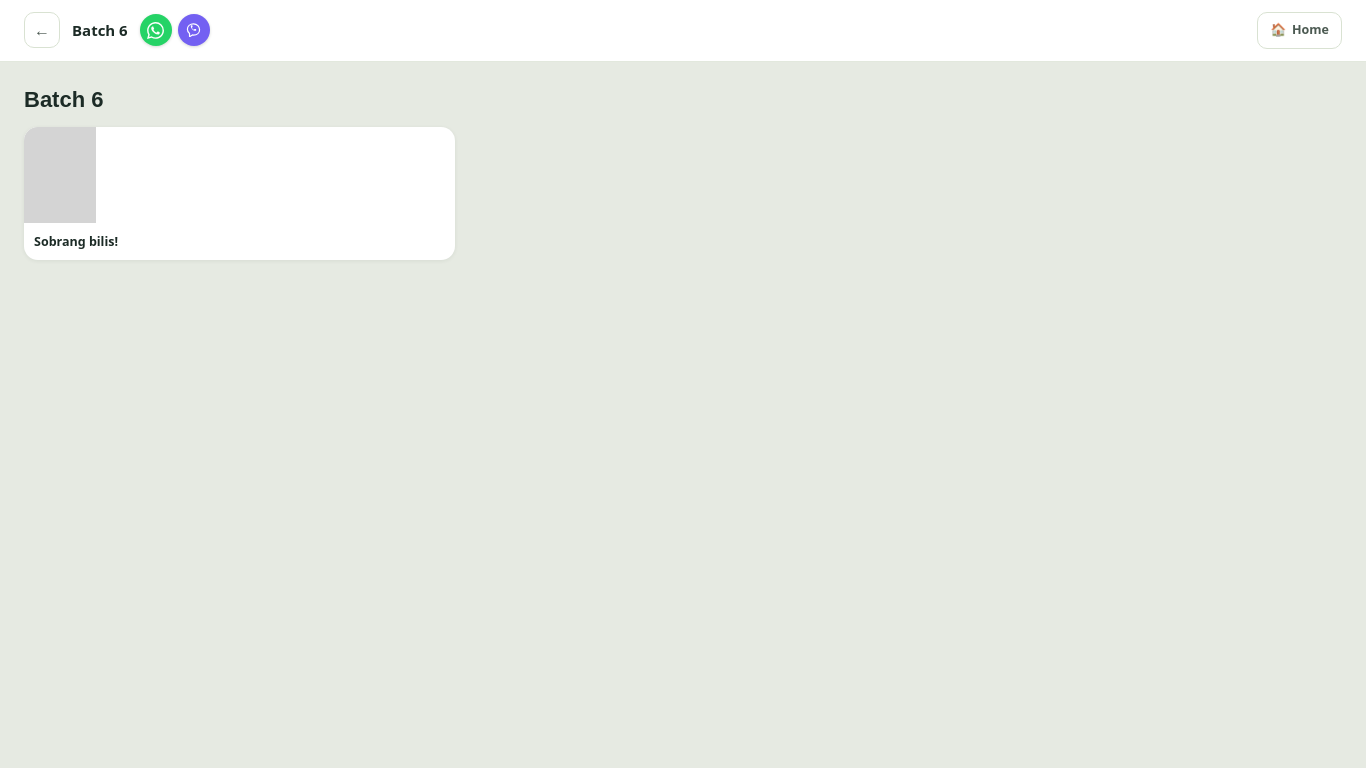
Test case: Feedback folder page › opens a screenshot full-size when tapped — a chat shot is unreadable as a tile
Click the button "Sobrang bilis!": [60, 175] box [24, 127, 455, 260]
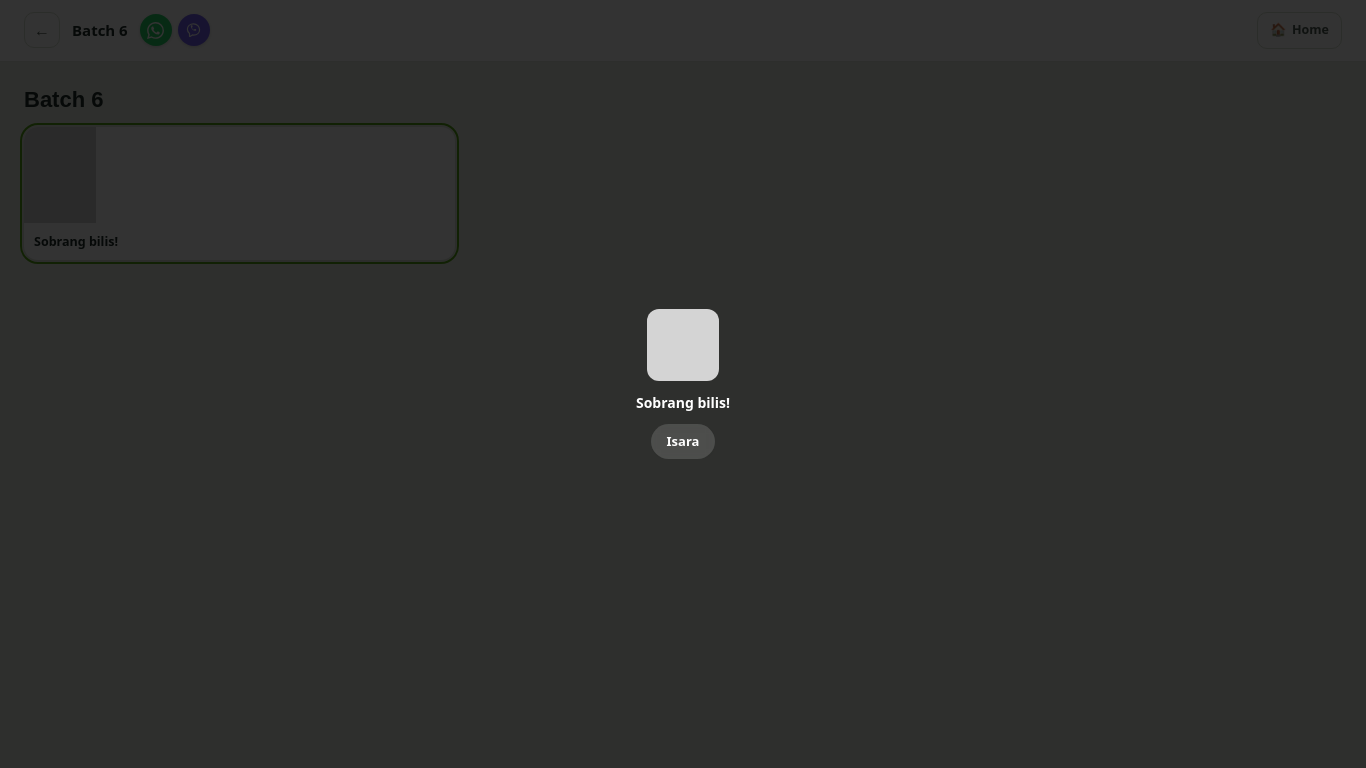
Check: the dialog is shown
